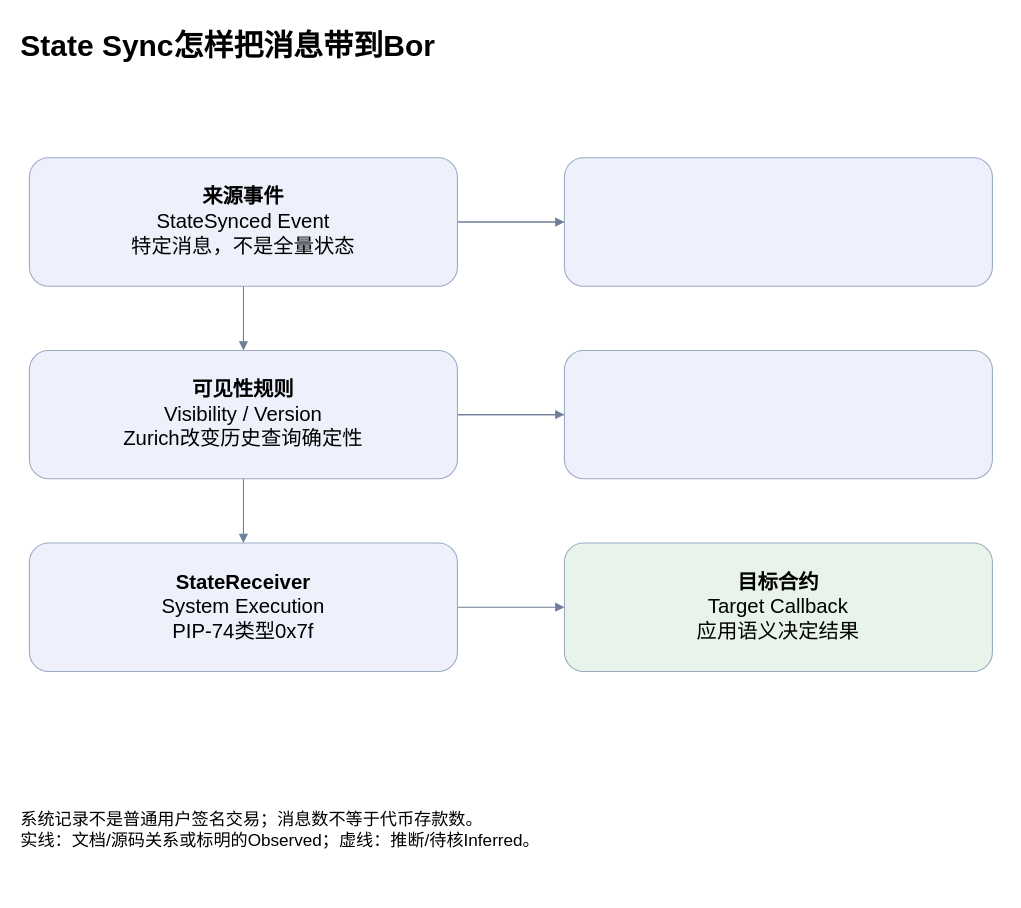
The diagram is 1021 pixels wide and 908 high, and some of its shapes have lost their labels. Each missing label, with the box of its shape:
Bor Sprint边界 Commit Pending Records 按协议处理: (563, 349, 992, 479)
Heimdall Clerk Validated Event Record 保存来源与载荷: (563, 157, 992, 286)
